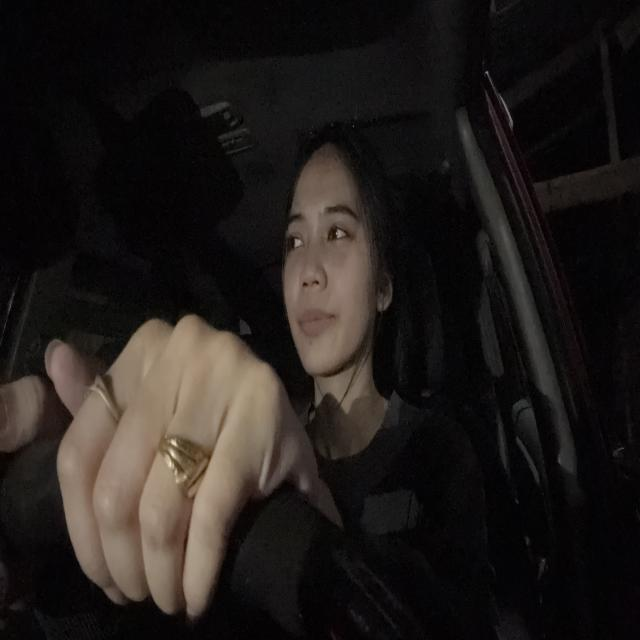open: (321, 200, 363, 257), (283, 206, 310, 266)
